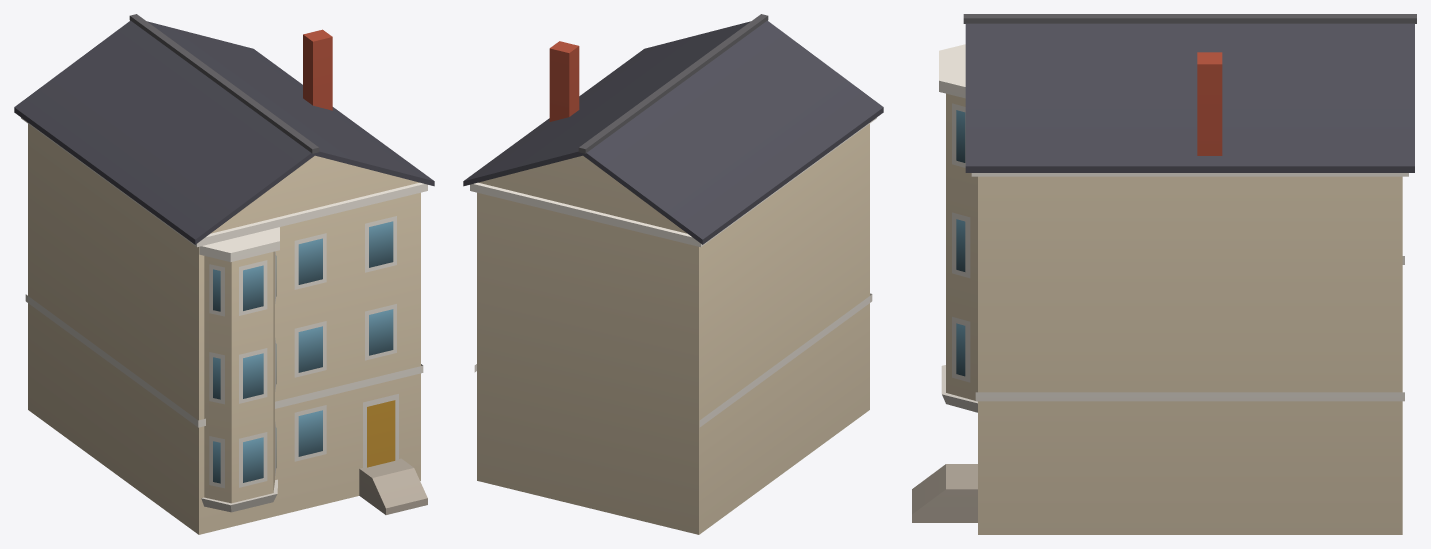
Rendered from beacon_n4_far.glb.
3 renders of one model, left to right at view 1: azimuth 30°, elevation 25°; view 2: azimuth 150°, elevation 25°; view 3: azimuth 270°, elevation 25°, orthographic. The views are drawn at different scales.
Parts seen in each view (by area): view 1: beacon_n4_far; view 2: beacon_n4_far; view 3: beacon_n4_far.
Part boxes in pixels (<box>): beacon_n4_far: <box>14,14,434,534</box>; beacon_n4_far: <box>463,14,883,534</box>; beacon_n4_far: <box>912,14,1416,534</box>.
Bounding box in the file's own units: 9.7 × 14.68 × 14.26.
1 material, 1 textured.
